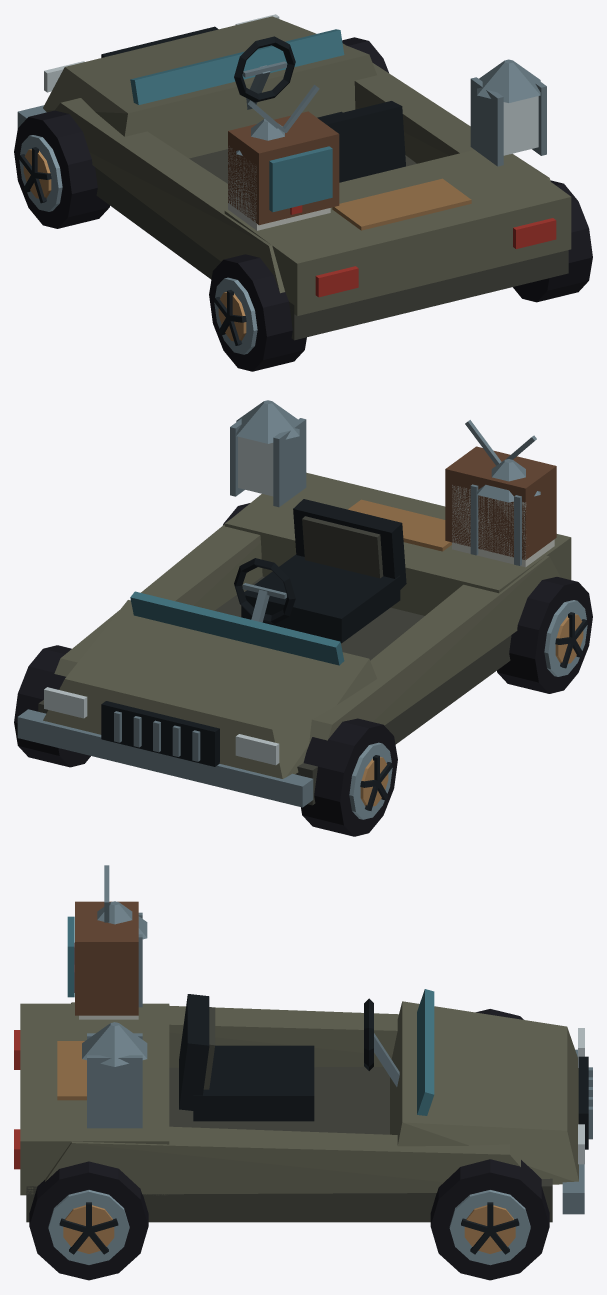
Rendered from kart.glb.
The picture shows the model from 3 angles, top to bottom: view 1: azimuth 30°, elevation 25°; view 2: azimuth 150°, elevation 25°; view 3: azimuth 270°, elevation 25°; orthographic projection. The views are drawn at different scales.
Parts seen in each view (by area): view 1: identity-sedan-sedan-road-car-body, identity-sedan-motif-television, wheel-front-left, wheel-rear-left, identity-sedan-motif-lanterns, identity-sedan-driver-cockpit, wheel-rear-right, identity-sedan-motif-medical, wheel-front-right; view 2: identity-sedan-sedan-road-car-body, identity-sedan-driver-cockpit, identity-sedan-motif-television, identity-sedan-motif-lanterns, wheel-front-left, wheel-rear-left, wheel-front-right, identity-sedan-motif-medical; view 3: identity-sedan-sedan-road-car-body, identity-sedan-driver-cockpit, wheel-front-right, wheel-rear-right, identity-sedan-motif-television, identity-sedan-motif-lanterns.
Boxes of the visible parts, x1,y1,x2,y2 form: identity-sedan-sedan-road-car-body: (17,14,571,340); identity-sedan-motif-television: (228,85,339,225); wheel-front-left: (14,110,109,228); wheel-rear-left: (209,254,306,371); identity-sedan-motif-lanterns: (236,59,546,166); identity-sedan-driver-cockpit: (234,36,405,182); wheel-rear-right: (513,180,592,302); identity-sedan-motif-medical: (228,146,330,230); wheel-front-right: (342,37,388,72); identity-sedan-sedan-road-car-body: (17,472,571,807); identity-sedan-driver-cockpit: (234,499,406,643); identity-sedan-motif-television: (445,420,556,560); identity-sedan-motif-lanterns: (230,400,540,565); wheel-front-left: (301,718,397,836); wheel-rear-left: (497,577,592,693); wheel-front-right: (14,645,90,767); identity-sedan-motif-medical: (452,485,554,567); identity-sedan-sedan-road-car-body: (14,989,592,1222); identity-sedan-driver-cockpit: (179,994,399,1121); wheel-front-right: (430,1159,549,1280); wheel-rear-right: (29,1161,148,1280); identity-sedan-motif-television: (67,865,138,1015); identity-sedan-motif-lanterns: (82,901,147,1128).
Size of the model in its own units: 2.07 by 1.46 by 2.92.
